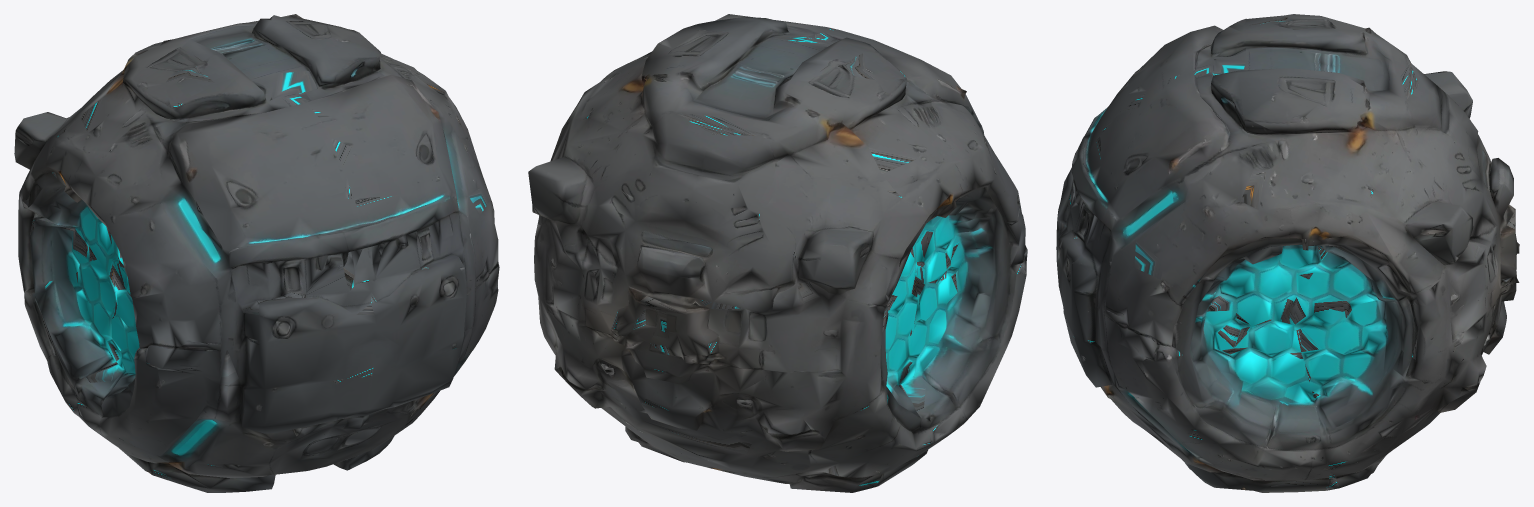
Rendered from energy_cell.glb.
3 renders of one model, left to right at view 1: azimuth 30°, elevation 25°; view 2: azimuth 150°, elevation 25°; view 3: azimuth 270°, elevation 25°, orthographic. The views are drawn at different scales.
Parts seen in each view (by area): view 1: tripo_node_14d44402-02ad-4c9e-82a7-23c79d54a45e; view 2: tripo_node_14d44402-02ad-4c9e-82a7-23c79d54a45e; view 3: tripo_node_14d44402-02ad-4c9e-82a7-23c79d54a45e.
Boxes of the visible parts, box(x1,y1,x2,y2) form: tripo_node_14d44402-02ad-4c9e-82a7-23c79d54a45e: box(14, 14, 499, 492); tripo_node_14d44402-02ad-4c9e-82a7-23c79d54a45e: box(528, 14, 1027, 492); tripo_node_14d44402-02ad-4c9e-82a7-23c79d54a45e: box(1056, 14, 1519, 492).
Size of the model in its own units: 0.9095 by 0.9525 by 0.9942.
Materials: 1 (1 with a texture image).
